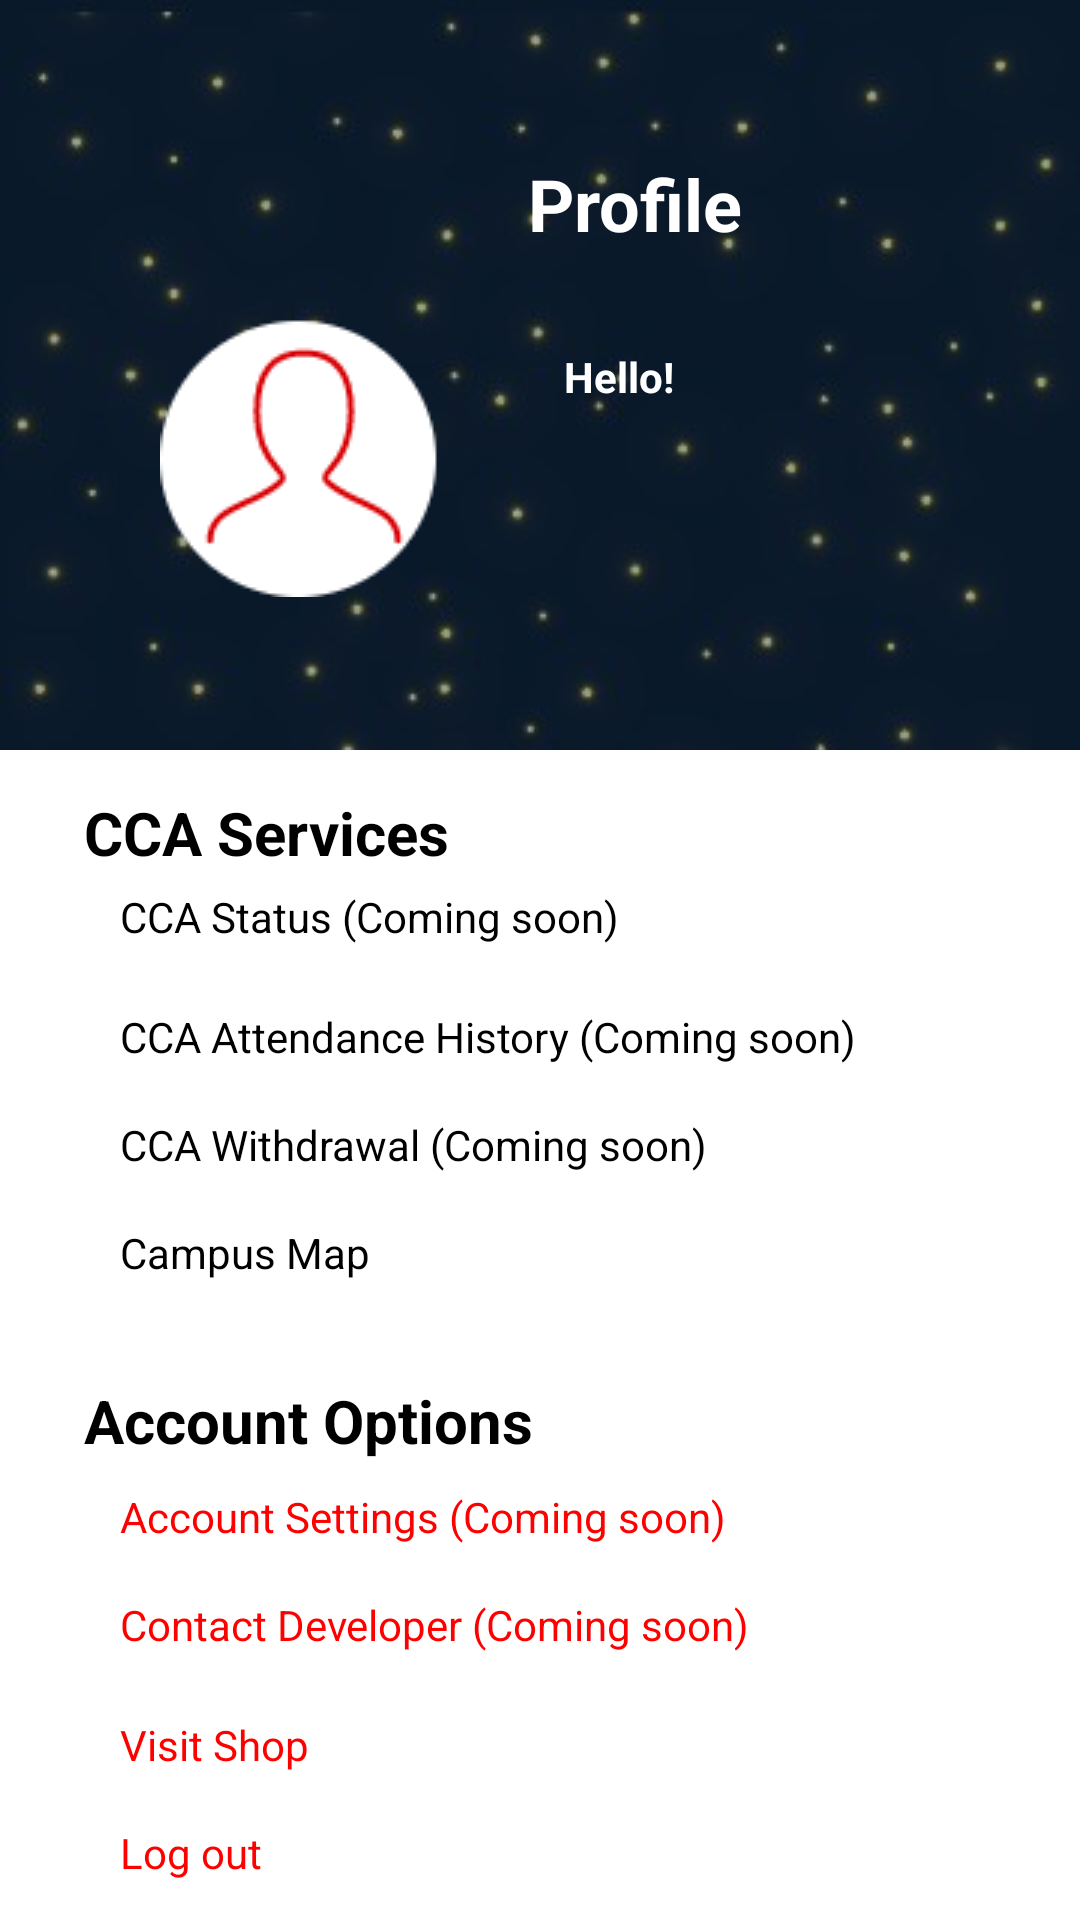

Icon bounding boxes for this 1080 x 1920 phone screenshot, format (x1, y1, x2, y2):
person: (160, 306, 439, 597)
